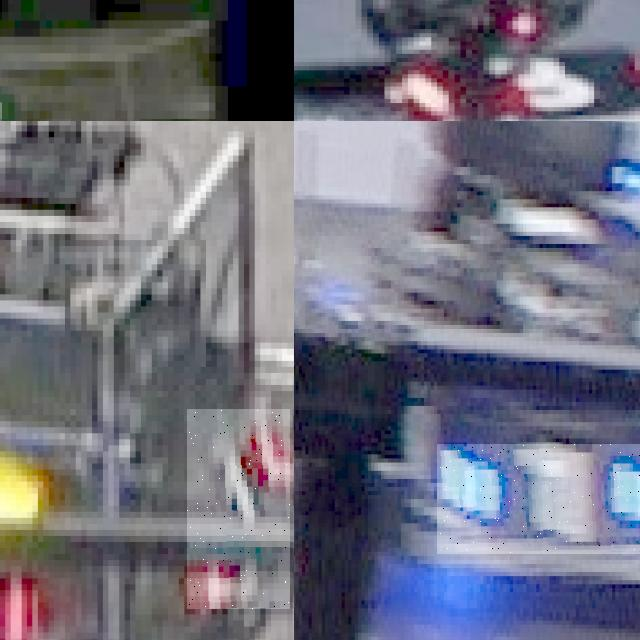B1: (437, 444, 640, 553)
R1: (187, 409, 290, 609)
R3: (419, 45, 640, 119)
